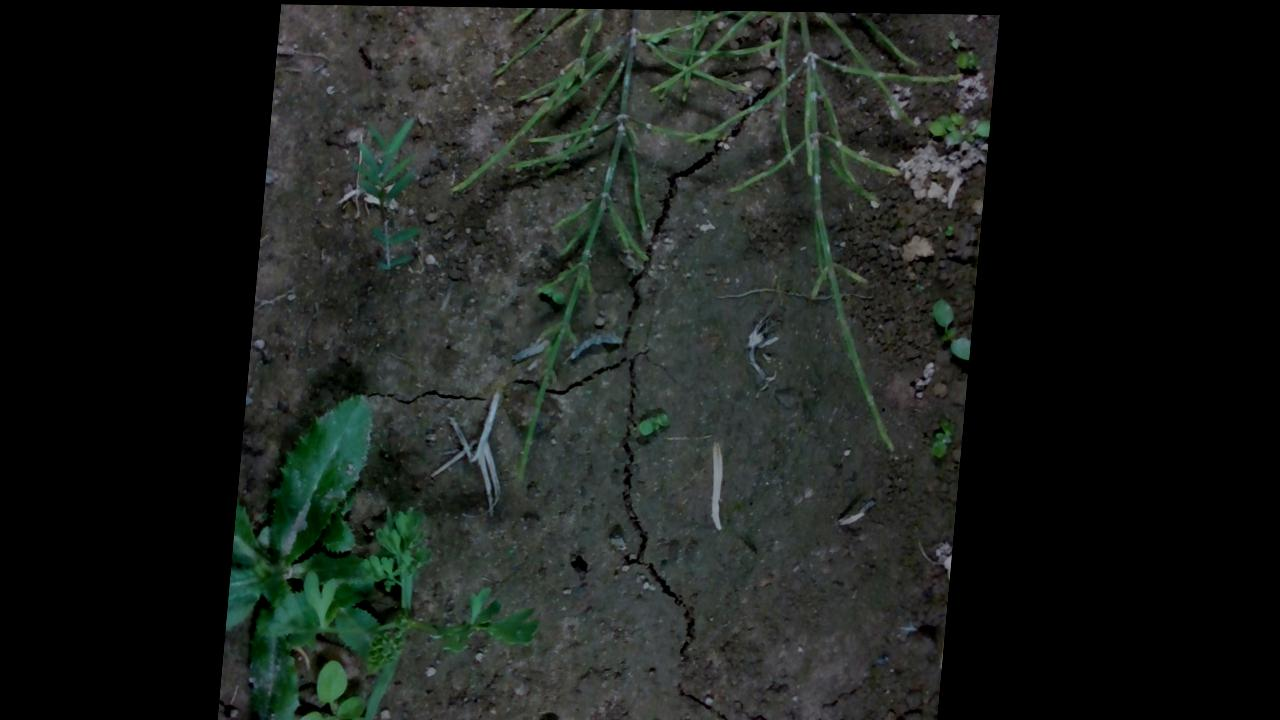weed: (641, 405, 685, 437), (526, 715, 584, 719)
